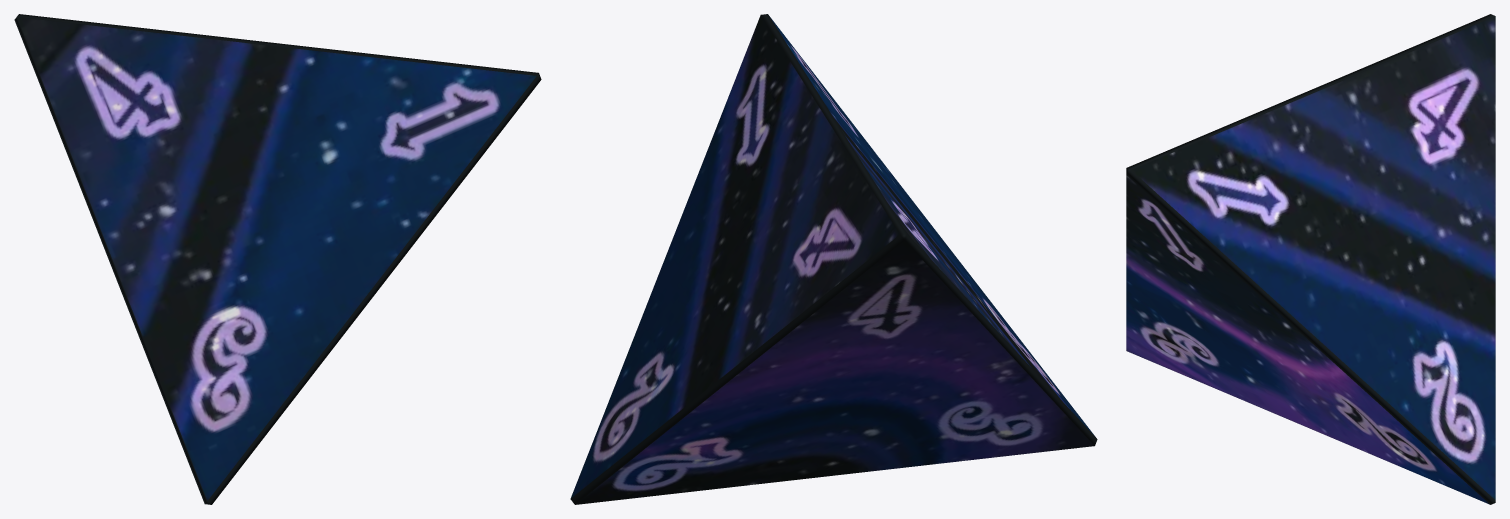
The model's file is cosmos_d4.glb.
The picture shows the model from 3 angles, left to right: view 1: azimuth 30°, elevation 25°; view 2: azimuth 150°, elevation 25°; view 3: azimuth 270°, elevation 25°; orthographic projection. The views are drawn at different scales.
Visible parts, largest first — view 1: Mesh_0; view 2: Mesh_0; view 3: Mesh_0.
Boxes of the visible parts, x1,y1,x2,y2 form: Mesh_0: [14, 14, 541, 504]; Mesh_0: [570, 14, 1097, 504]; Mesh_0: [1126, 14, 1495, 504].
Size of the model in its own units: 135 by 135 by 135.
1 material, 1 textured.
